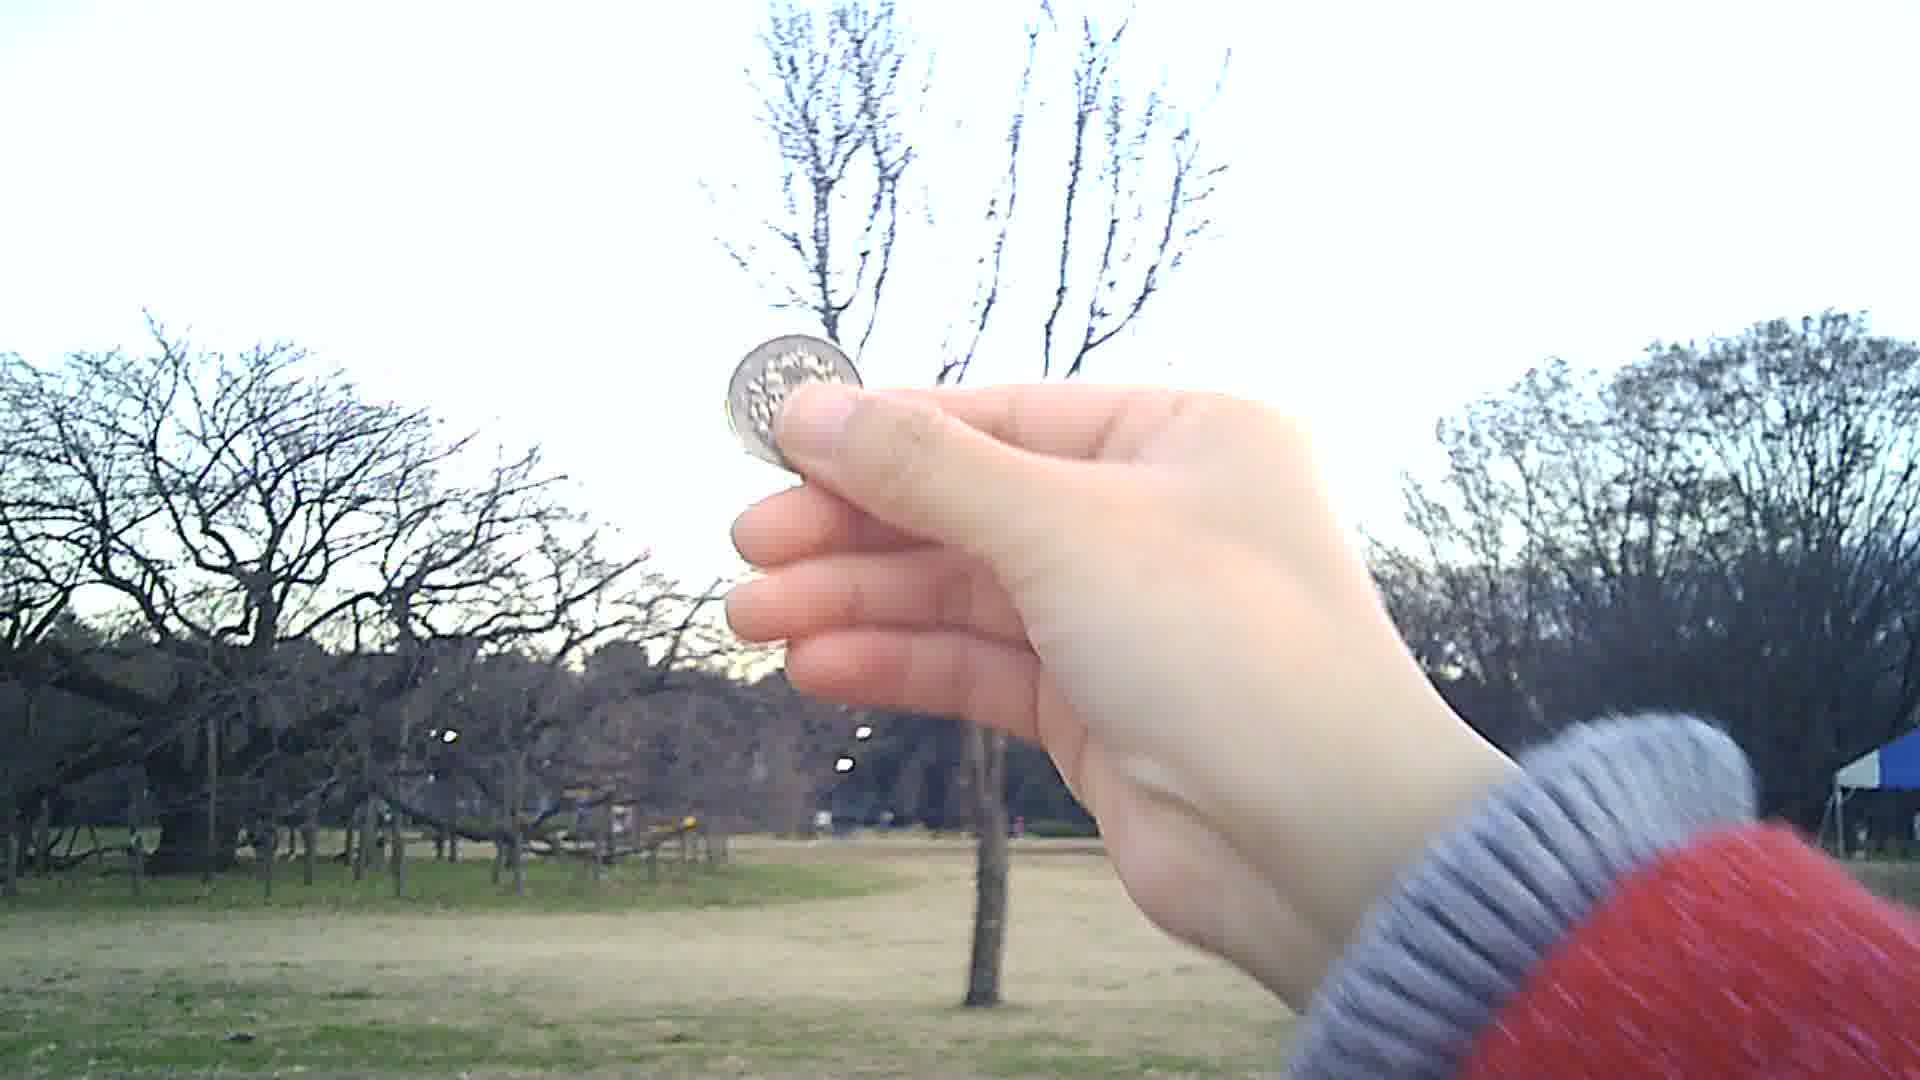100 Yen: (713, 335, 881, 481)
